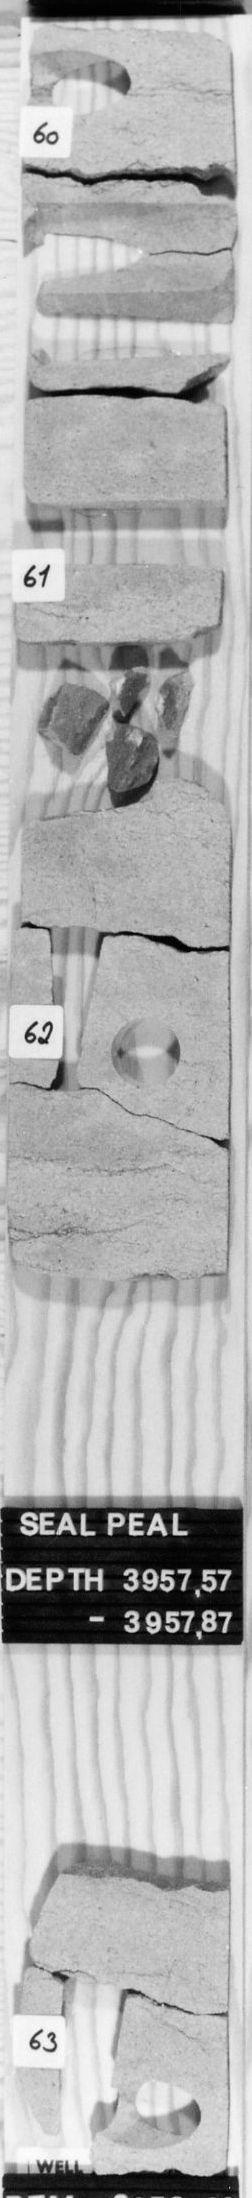hplug: (22, 495, 223, 572), (27, 48, 137, 121), (99, 2080, 206, 2152), (104, 1011, 190, 1096)
scal: (28, 198, 230, 289), (29, 287, 230, 371)
vplug: (52, 1971, 126, 2136), (43, 920, 106, 1091)
